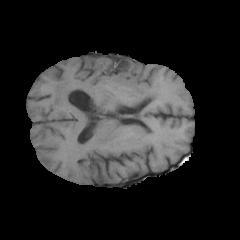glioma: (53, 61, 161, 117)
